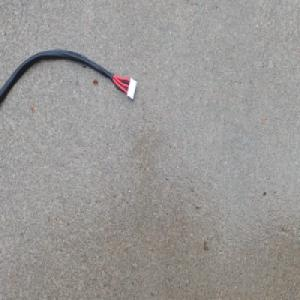Wire: (0, 48, 138, 120)
